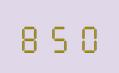eight: (18, 20, 44, 53)
five: (46, 20, 72, 53)
zero: (73, 20, 99, 53)
